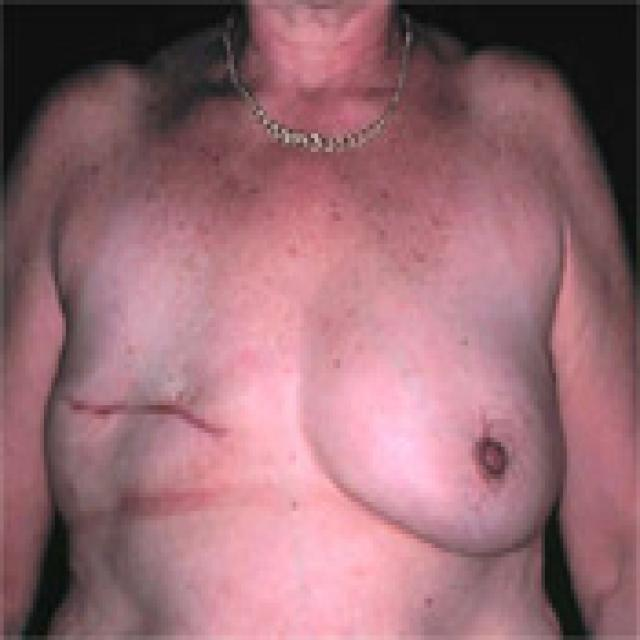Seno herido: (38, 294, 295, 554)
Seno ileso: (298, 273, 573, 585)
